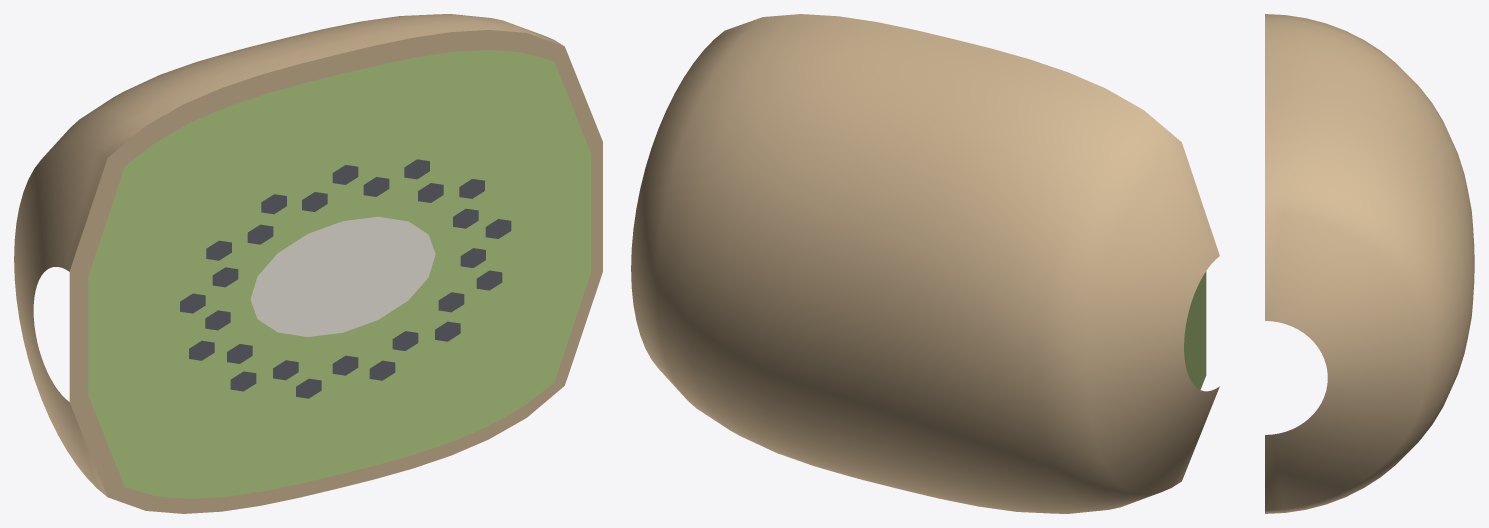
File: fresh-produce-and-groceries-kiwi-half-f293b2ba__24339.glb
3 views of the same model, side by side, from view 1: azimuth 30°, elevation 25°; view 2: azimuth 150°, elevation 25°; view 3: azimuth 270°, elevation 25° (orthographic). The views are drawn at different scales.
Visible parts, largest first — view 1: kiwi-half; view 2: kiwi-half; view 3: kiwi-half.
Part boxes in pixels (<box>): kiwi-half: <box>14,14,602,513</box>; kiwi-half: <box>631,14,1219,513</box>; kiwi-half: <box>1265,14,1474,513</box>.
Bounding box in the file's own units: 0.072 × 0.056 × 0.0302.
